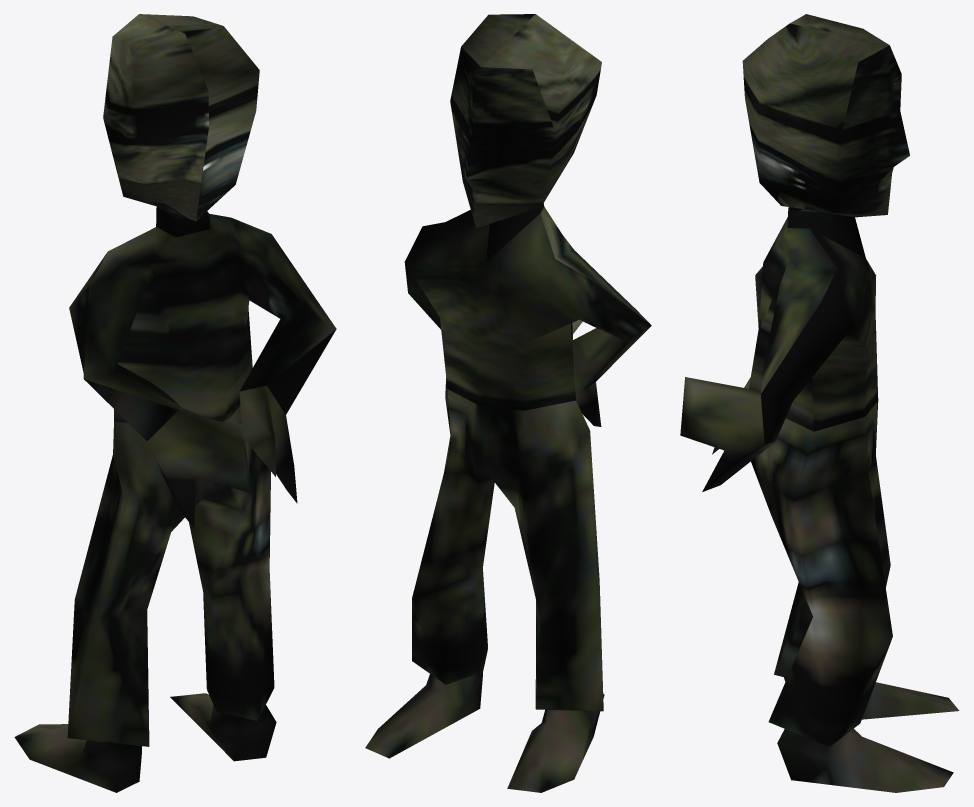
Rendered from SLIME1.ICO.obj.
3 renders of one model, left to right at view 1: azimuth 30°, elevation 25°; view 2: azimuth 150°, elevation 25°; view 3: azimuth 270°, elevation 25°, orthographic. The views are drawn at different scales.
Bounding box in the file's own units: 1.8 × 5.15 × 1.81.
